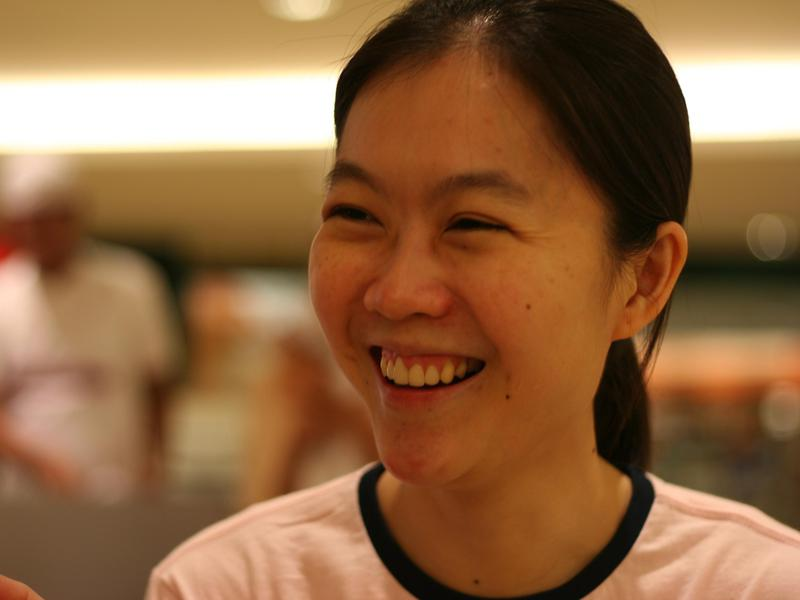person: (146, 1, 797, 600)
